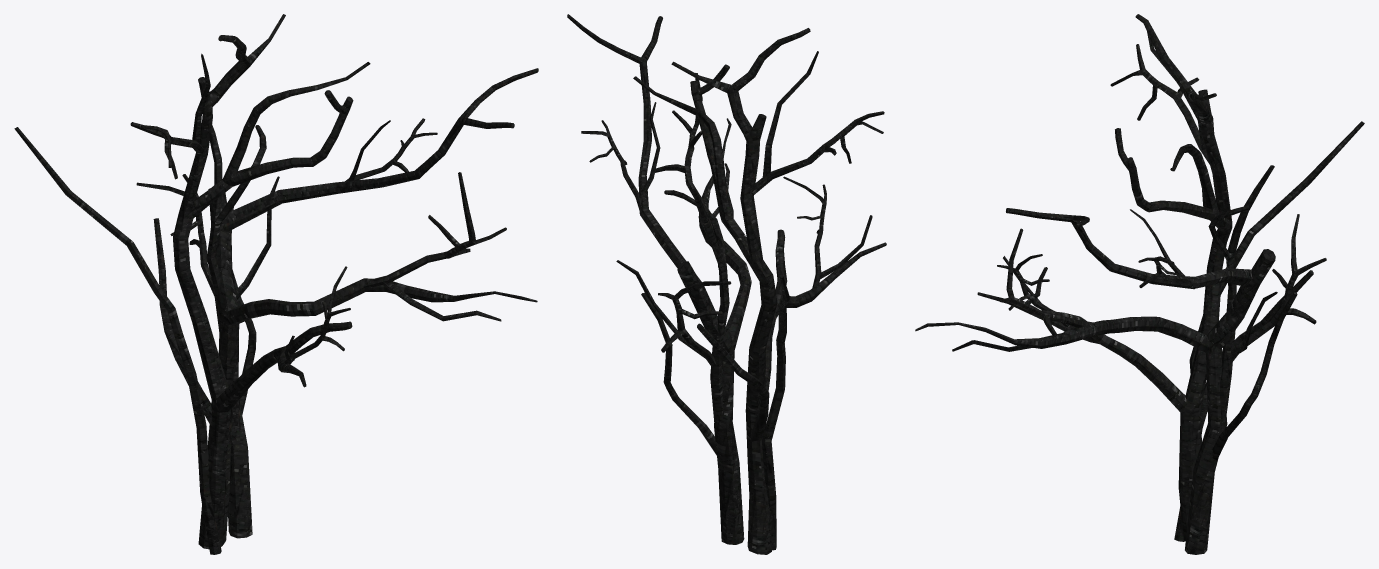
The model's file is 1_BURNT_01_14-transformed.glb.
3 views of the same model, side by side, from view 1: azimuth 30°, elevation 25°; view 2: azimuth 150°, elevation 25°; view 3: azimuth 270°, elevation 25° (orthographic). The views are drawn at different scales.
Visible parts, largest first — view 1: default; view 2: default; view 3: default.
Part boxes in pixels (x1,y1,x2,y2): default: (14,14,538,554); default: (567,14,886,554); default: (915,14,1364,554).
Size of the model in its own units: 4.85 by 6.64 by 5.21.
Materials: 1 (1 with a texture image).
